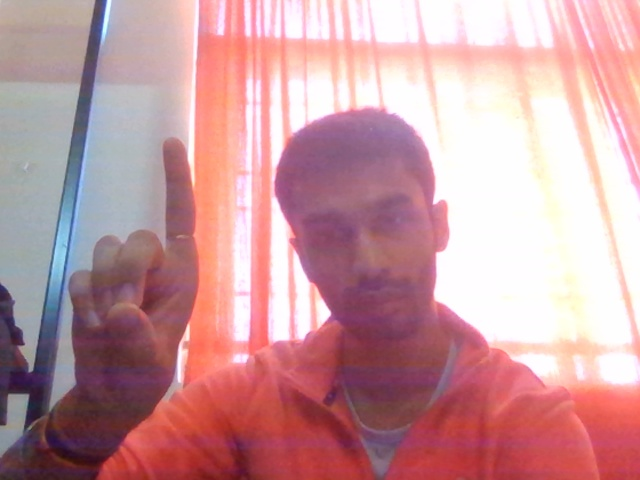D: (23, 123, 234, 480)
